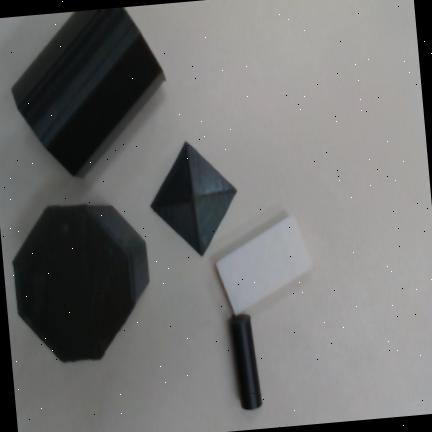Cilindro: (230, 314, 262, 409)
Paralelepipedo: (214, 213, 312, 316)
Piramide: (150, 141, 237, 258)
Prisma_hexagonal: (11, 7, 163, 178), (13, 204, 150, 363)
